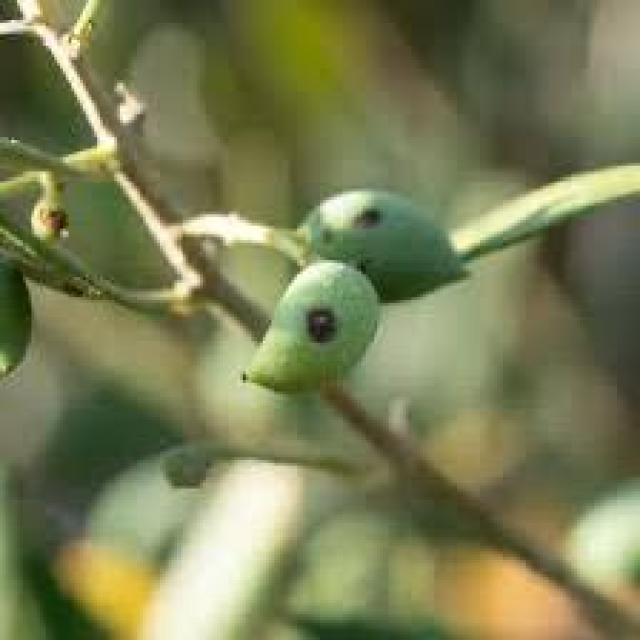Olive Fruit Fly: (240, 257, 380, 391), (297, 191, 466, 300)
